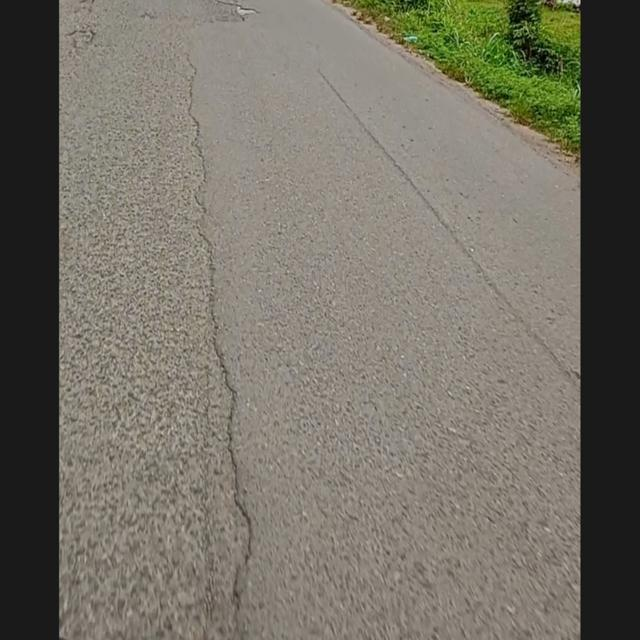Memanjang: (169, 34, 268, 627)
